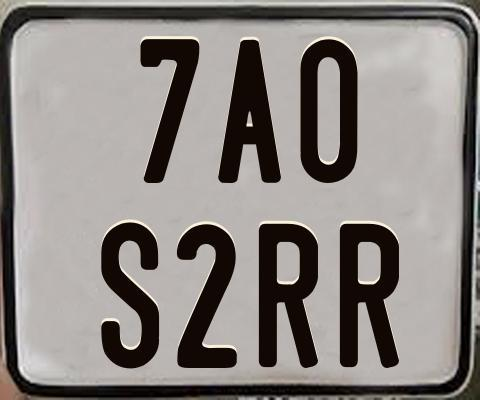0: (299, 36, 361, 186)
2: (176, 221, 239, 366)
7: (137, 39, 201, 186)
A: (217, 39, 285, 184)
R: (257, 223, 322, 370), (337, 224, 402, 370)
S: (98, 221, 157, 374)
